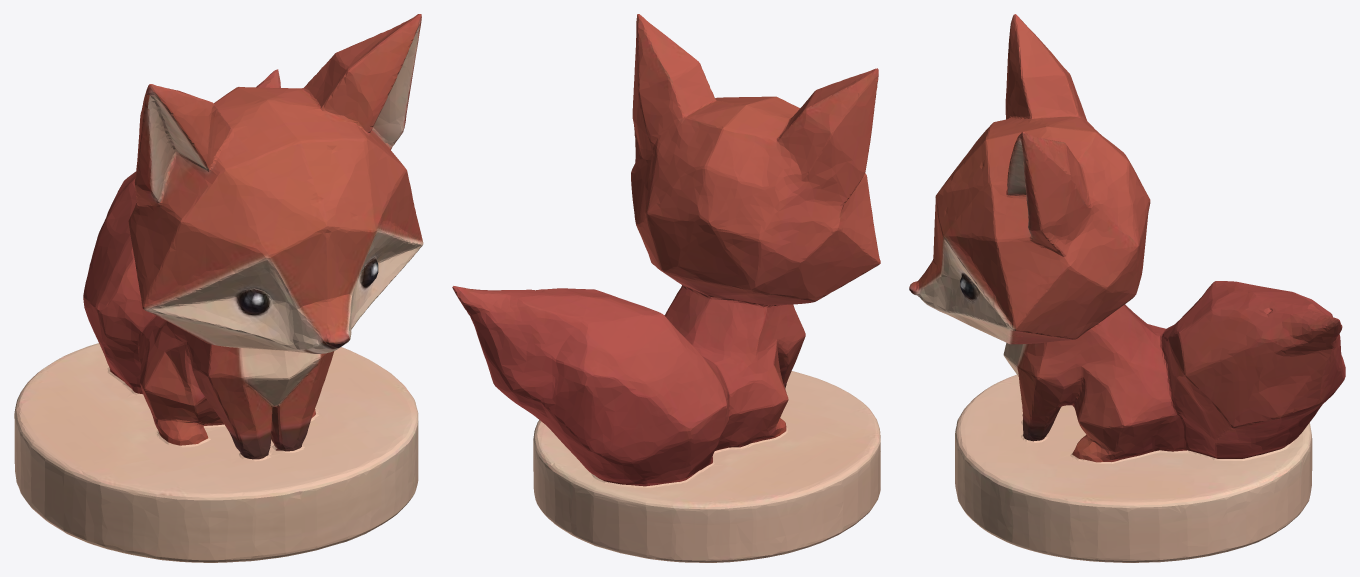
The model's file is fig-50.glb.
3 renders of one model, left to right at view 1: azimuth 30°, elevation 25°; view 2: azimuth 150°, elevation 25°; view 3: azimuth 270°, elevation 25°, orthographic. The views are drawn at different scales.
Parts seen in each view (by area): view 1: tmpeibv0x1_.ply; view 2: tmpeibv0x1_.ply; view 3: tmpeibv0x1_.ply.
Part boxes in pixels (x1,y1,x2,y2): tmpeibv0x1_.ply: [14, 14, 423, 562]; tmpeibv0x1_.ply: [452, 14, 880, 562]; tmpeibv0x1_.ply: [909, 14, 1345, 562].
Bounding box in the file's own units: 1.54 × 1.99 × 1.87.
1 material, 1 textured.
